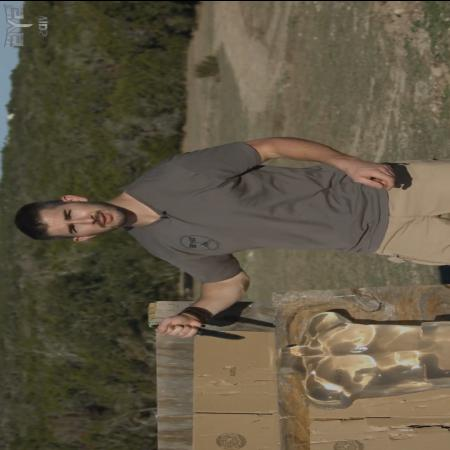long weapon: (151, 319, 251, 343)
